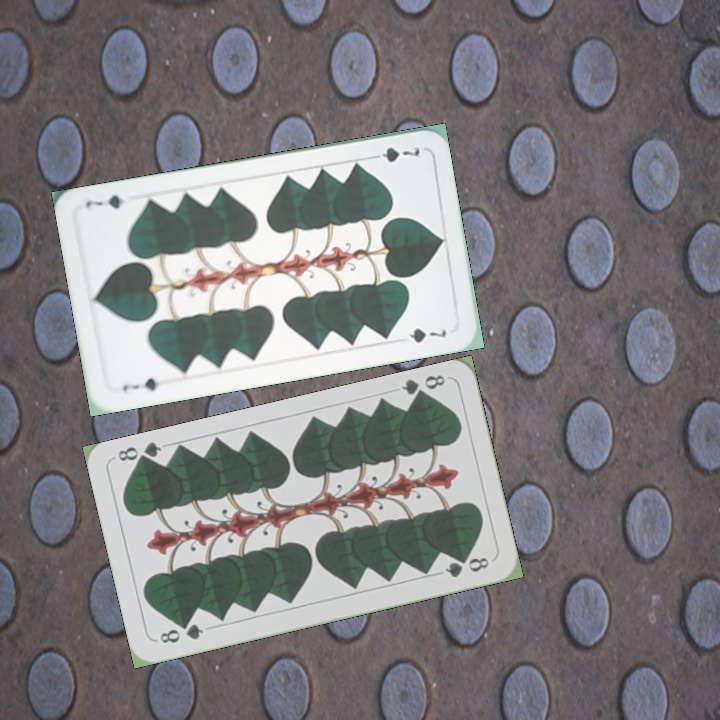G7: (364, 143, 423, 165), (118, 374, 162, 394)
G8: (397, 370, 448, 404), (155, 619, 207, 646)
